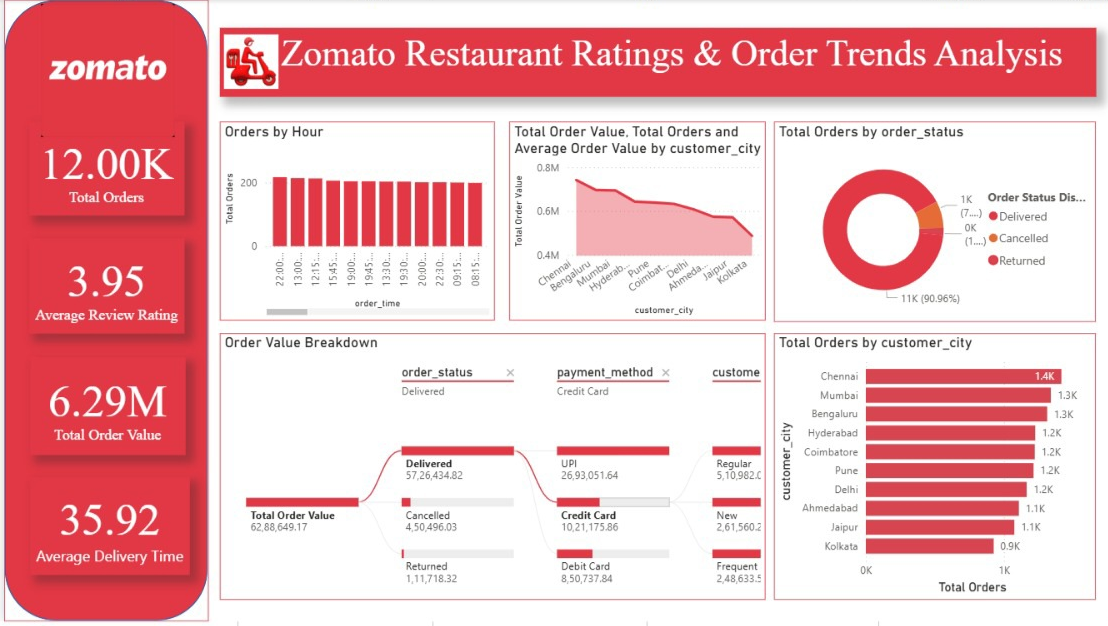

Layout of this report page (visuals, bound fields, positions):
{"tool":"powerbi","page":{"name":"   Zomato Restaurant Ratings & Order Trends Analysis","canvas":[1280,720],"ordinal":0},"visuals":[{"type":"shape","box":[0,0,236.7,720],"z":0},{"type":"card","fields":{"Values":["zomato_analytics orders.Total Orders"]},"box":[28.8,140.7,179.7,108.5],"z":1000},{"type":"card","fields":{"Values":["zomato_analytics orders.Total Order Value"]},"box":[30.5,413.6,179.7,113.6],"z":2000},{"type":"card","fields":{"Values":["zomato_analytics reviews.Average Review Rating"]},"box":[28.8,276.3,179.7,110.2],"z":3000},{"type":"card","fields":{"Values":["zomato_analytics orders.Average Delivery Time"]},"box":[30.5,552.5,184.7,113.6],"z":4000},{"type":"donutChart","fields":{"Category":["zomato_analytics orders.order_status"],"Y":["zomato_analytics orders.Total Orders"]},"box":[891.5,140.7,372.9,232.2],"z":5000},{"type":"clusteredBarChart","fields":{"Category":["zomato_analytics customers.customer_city"],"Y":["zomato_analytics orders.Total Orders"]},"box":[891.5,386.4,372.9,308.5],"z":6000},{"type":"textbox","box":[249.2,32.2,1015.3,79.7],"z":7000},{"type":"columnChart","title":"Orders by Hour","fields":{"Category":["zomato_analytics orders.order_time"],"Y":["zomato_analytics orders.Total Orders"]},"box":[249.2,140.7,318.6,230.5],"z":8000},{"type":"areaChart","fields":{"Category":["zomato_analytics customers.customer_city"],"Y":["zomato_analytics orders.Total Order Value"]},"box":[584.7,140.7,296.6,230.5],"z":9000},{"type":"decompositionTreeVisual","title":"Order Value Breakdown","fields":{"Analyze":["zomato_analytics orders.Total Order Value"],"ExplainBy":["zomato_analytics orders.order_status","zomato_analytics orders.payment_method","zomato_analytics customers.customer_segment","zomato_analytics customers.customer_city"]},"box":[249.2,386.4,632.2,308.5],"z":10000},{"type":"image","box":[249.2,27.1,72.9,89.8],"z":11000},{"type":"image","box":[13.6,0,213.6,164.4],"z":12000}]}

Visuals, with their boxes in screenshot pixels (x1, y1, x2, y2), scaled from the page's 1280x720 canvas onto the 1108x626 screenshot:
shape: bbox=[0, 0, 205, 625]
card - zomato_analytics orders.Total Orders: bbox=[25, 122, 180, 217]
card - zomato_analytics orders.Total Order Value: bbox=[26, 360, 182, 458]
card - zomato_analytics reviews.Average Review Rating: bbox=[25, 240, 180, 336]
card - zomato_analytics orders.Average Delivery Time: bbox=[26, 480, 186, 579]
donutChart - zomato_analytics orders.order_status x zomato_analytics orders.Total Orders: bbox=[772, 122, 1094, 324]
clusteredBarChart - zomato_analytics customers.customer_city x zomato_analytics orders.Total Orders: bbox=[772, 336, 1094, 604]
textbox: bbox=[216, 28, 1095, 97]
"Orders by Hour" columnChart: bbox=[216, 122, 492, 323]
areaChart - zomato_analytics customers.customer_city x zomato_analytics orders.Total Order Value: bbox=[506, 122, 763, 323]
"Order Value Breakdown" decompositionTreeVisual: bbox=[216, 336, 763, 604]
image: bbox=[216, 24, 279, 102]
image: bbox=[12, 0, 197, 143]
